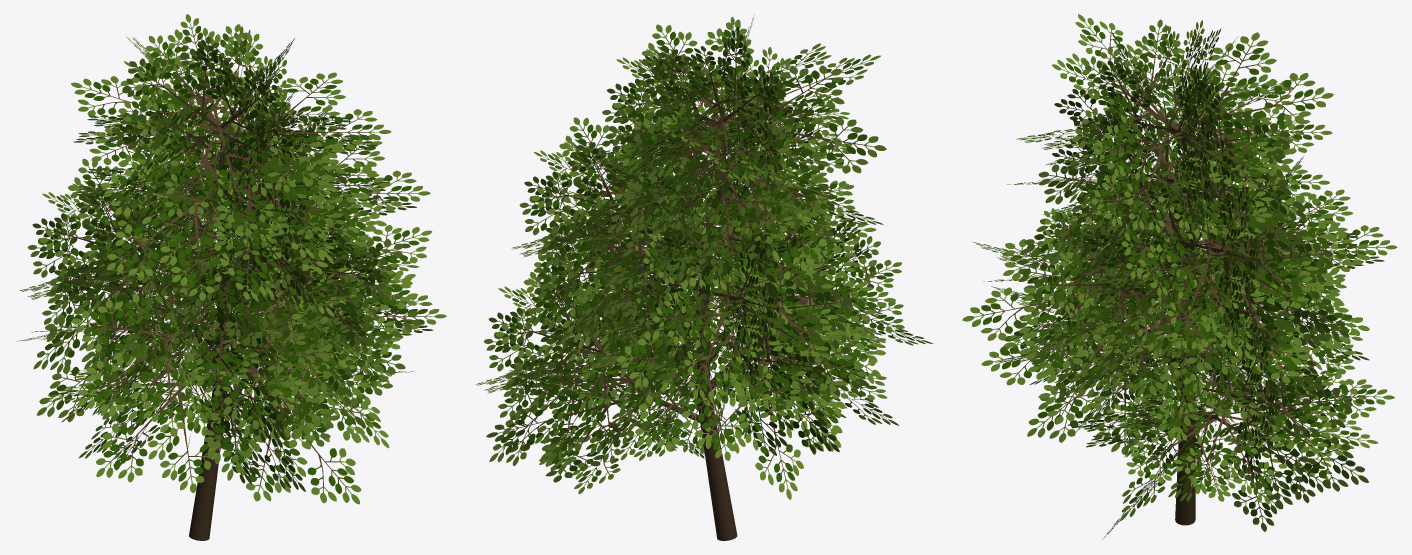
The model's file is tree.dae.
3 renders of one model, left to right at view 1: azimuth 30°, elevation 25°; view 2: azimuth 150°, elevation 25°; view 3: azimuth 270°, elevation 25°, orthographic. The views are drawn at different scales.
Visible parts, largest first — view 1: leaf_n_twig (×47), leaf_n_twig12 (×43), sm2_y_trunk; view 2: leaf_n_twig12 (×46), leaf_n_twig (×46), sm2_y_trunk; view 3: leaf_n_twig12 (×41), leaf_n_twig (×46), sm2_y_trunk.
Boxes of the visible parts, x1=… form: leaf_n_twig (×47): x1=27, y1=14, x2=446, y2=504; leaf_n_twig12 (×43): x1=19, y1=24, x2=432, y2=491; sm2_y_trunk: x1=189, y1=239, x2=231, y2=540; leaf_n_twig12 (×46): x1=475, y1=27, x2=895, y2=494; leaf_n_twig (×46): x1=484, y1=16, x2=932, y2=499; sm2_y_trunk: x1=695, y1=242, x2=737, y2=540; leaf_n_twig12 (×41): x1=999, y1=14, x2=1394, y2=531; leaf_n_twig (×46): x1=962, y1=28, x2=1397, y2=520; sm2_y_trunk: x1=1175, y1=250, x2=1195, y2=525.
Size of the model in its own units: 4714 by 4400 by 5544.
